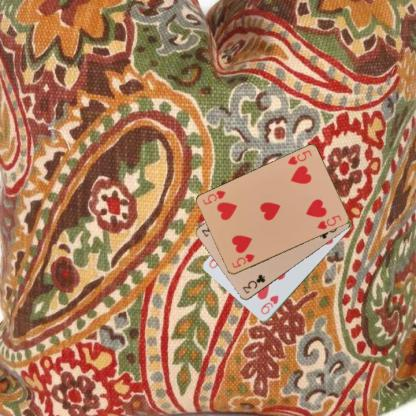3c: (240, 272, 266, 295)
5h: (285, 148, 313, 166), (229, 252, 256, 270)
9h: (258, 293, 280, 316)
